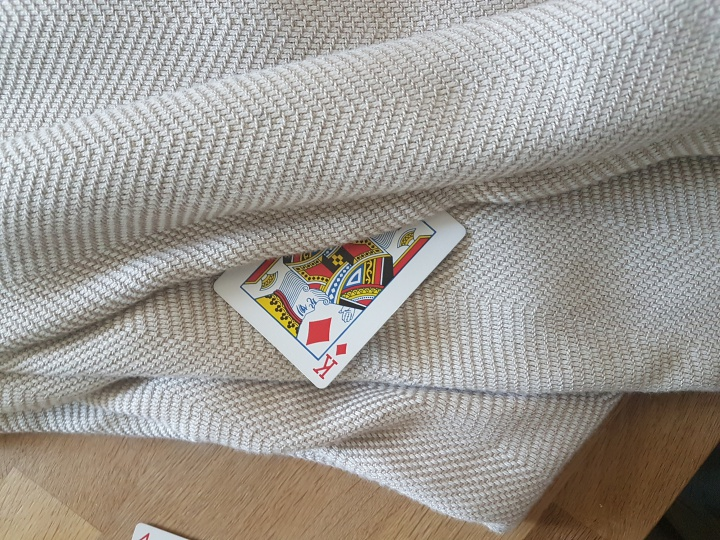king: (209, 195, 485, 398)
